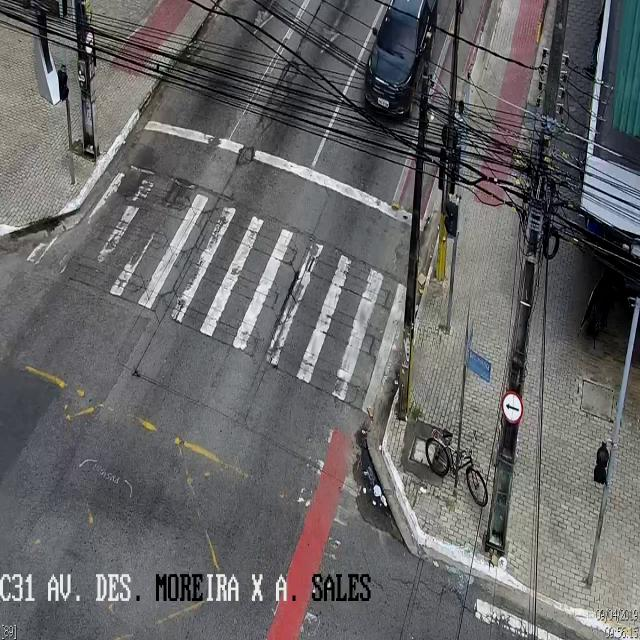Car: (364, 3, 438, 120)
